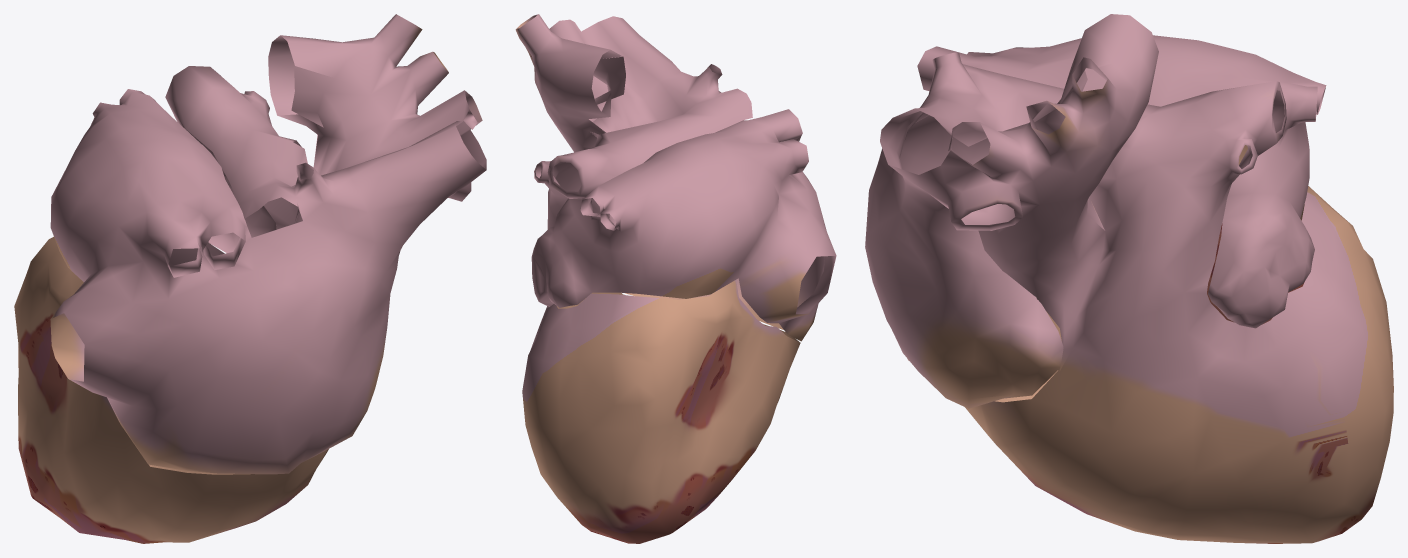
Rendered from heart.fbx.
3 views of the same model, side by side, from view 1: azimuth 30°, elevation 25°; view 2: azimuth 150°, elevation 25°; view 3: azimuth 270°, elevation 25° (orthographic). The views are drawn at different scales.
Visible parts, largest first — view 1: coeur; view 2: coeur; view 3: coeur.
Boxes of the visible parts, x1,y1,x2,y2 form: coeur: (14, 14, 486, 543); coeur: (515, 14, 836, 543); coeur: (865, 14, 1393, 543).
Size of the model in its own units: 220 by 291 by 236.
